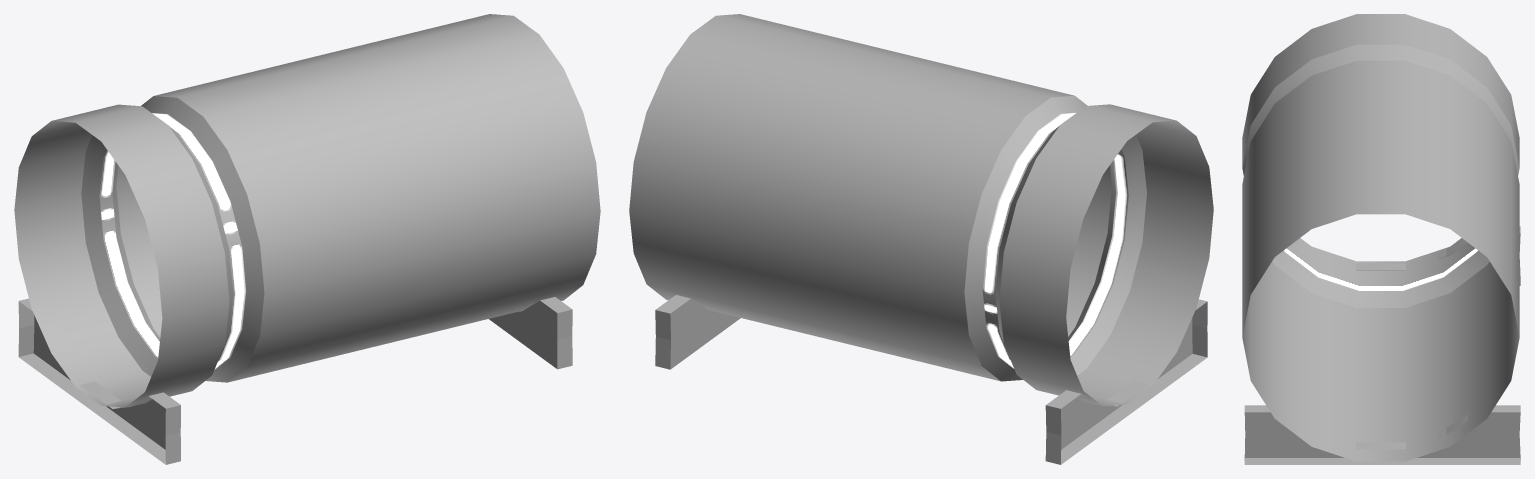
File: KF_SM_Battery.fbx
The picture shows the model from 3 angles, left to right: view 1: azimuth 30°, elevation 25°; view 2: azimuth 150°, elevation 25°; view 3: azimuth 270°, elevation 25°; orthographic projection. The views are drawn at different scales.
Visible parts, largest first — view 1: KF_SM_Battery; view 2: KF_SM_Battery; view 3: KF_SM_Battery.
Part boxes in pixels (x1=…): KF_SM_Battery: x1=14, y1=14, x2=600, y2=464; KF_SM_Battery: x1=629, y1=14, x2=1213, y2=464; KF_SM_Battery: x1=1242, y1=14, x2=1520, y2=464.
Bounding box in the file's own units: 199 × 122 × 117.
